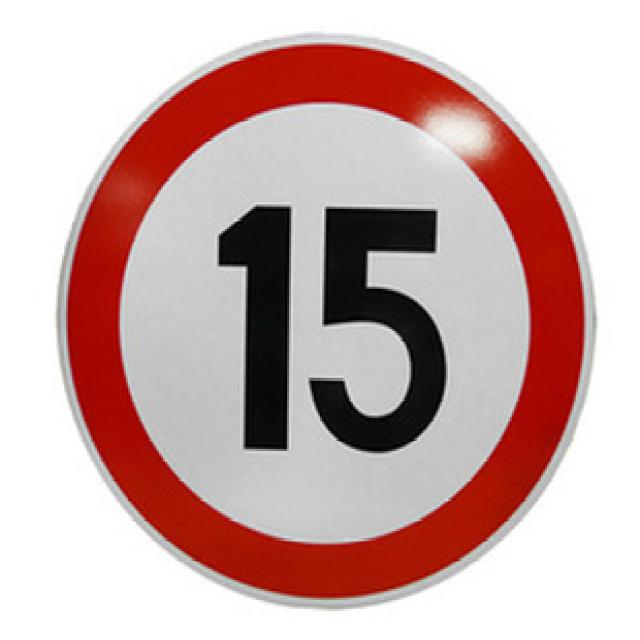speed limit 20: (51, 34, 597, 614)
